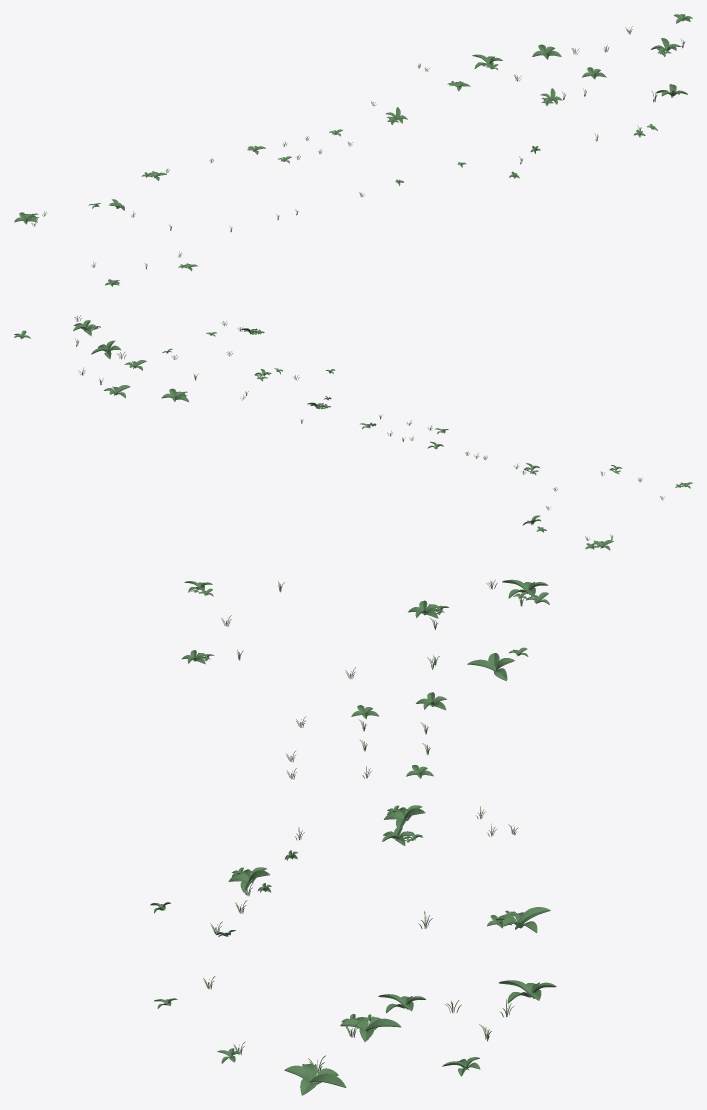
File: grass_block_3.gltf
3 renders of one model, top to bottom at view 1: azimuth 30°, elevation 25°; view 2: azimuth 150°, elevation 25°; view 3: azimuth 270°, elevation 25°, orthographic. The views are drawn at different scales.
Size of the model in its own units: 27.81 by 3.05 by 7.98.
